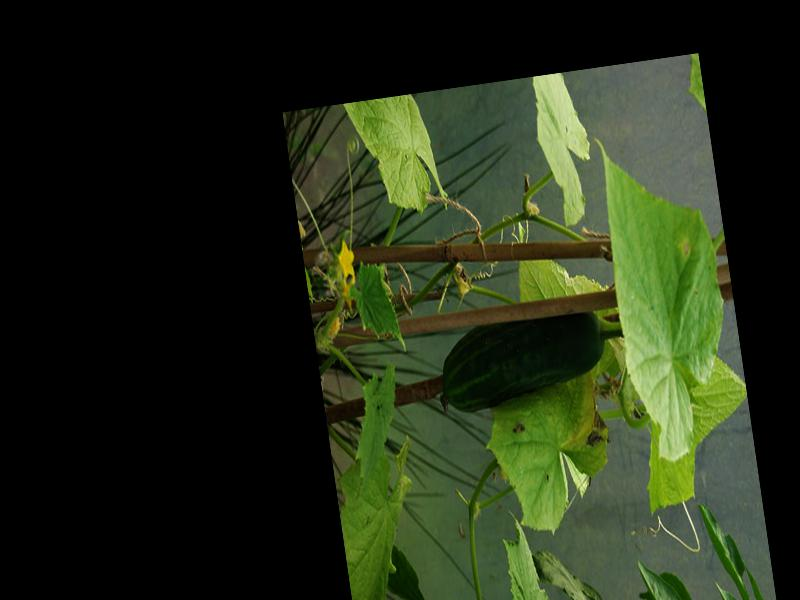Cucumber: (431, 308, 611, 417)
